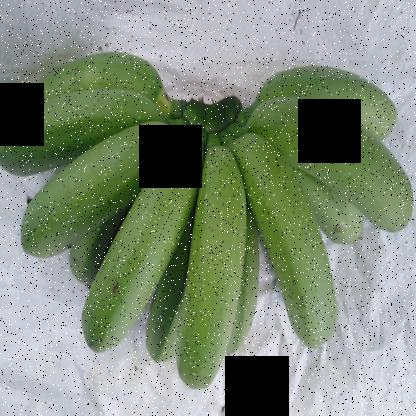freshunripe: (239, 98, 415, 243), (234, 118, 337, 359), (163, 106, 247, 396), (11, 130, 173, 260), (0, 84, 166, 188), (239, 60, 402, 142)
unripe: (72, 130, 205, 366)
